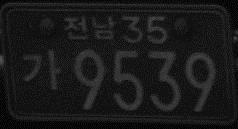3: (146, 48, 181, 112), (120, 15, 142, 45)
5: (112, 49, 144, 111), (145, 15, 169, 44)
9: (74, 47, 106, 111), (186, 51, 216, 112)
가: (21, 48, 62, 89)
전남_O: (62, 15, 116, 42)
